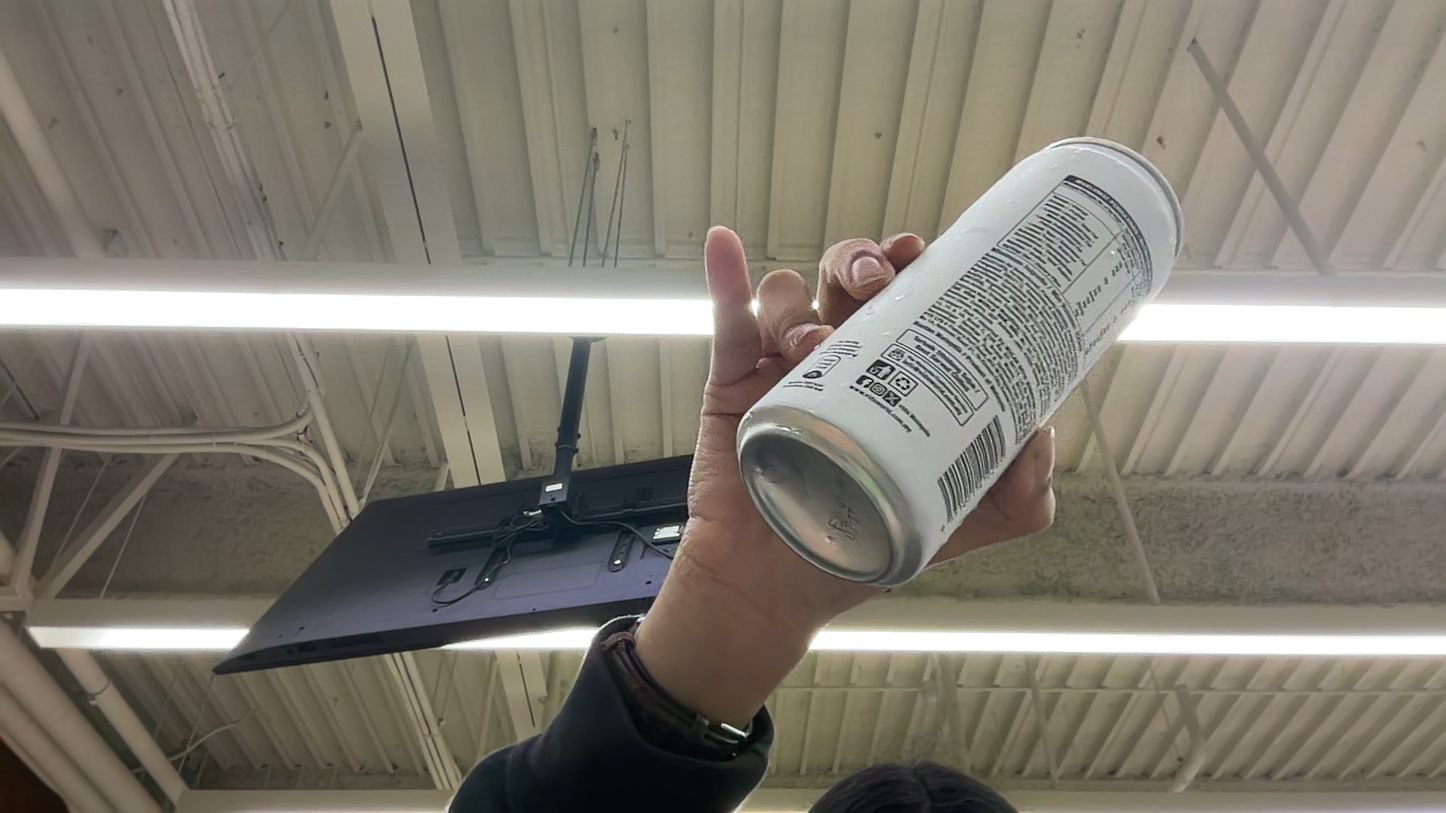Metal: (696, 131, 1229, 590)
